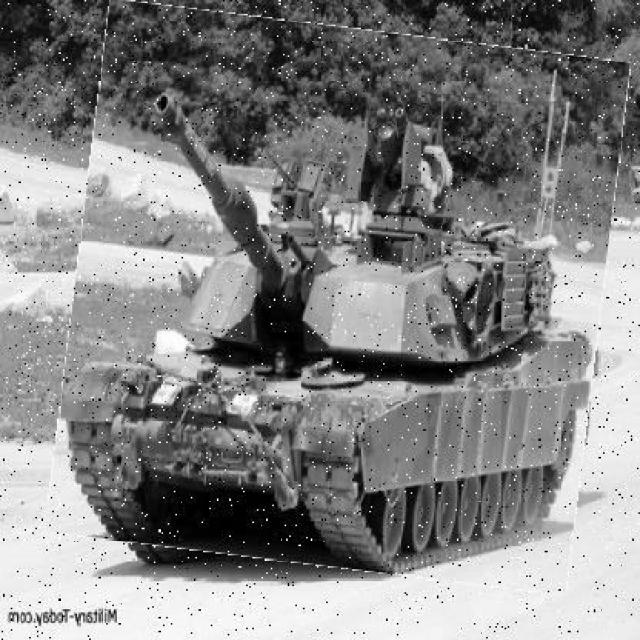Tank: (61, 15, 616, 581)
